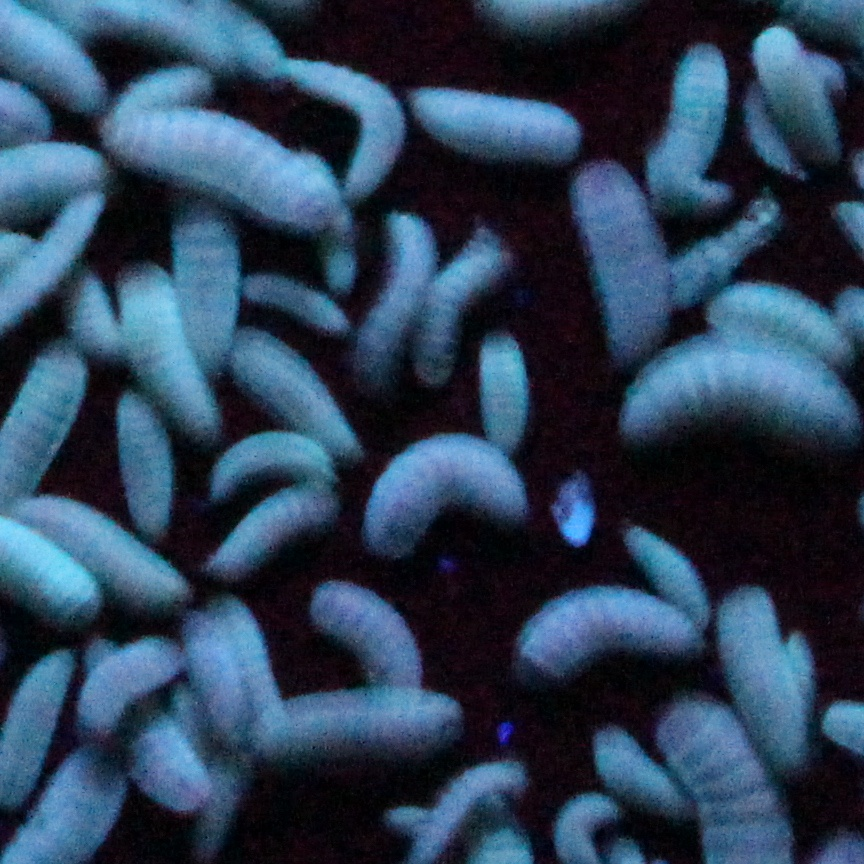larve: (94, 91, 354, 248), (354, 422, 532, 548), (570, 152, 674, 362), (107, 258, 223, 442), (715, 586, 814, 775), (244, 690, 464, 773), (709, 260, 859, 379), (495, 590, 715, 665), (406, 240, 516, 386), (299, 573, 428, 694), (405, 76, 585, 162), (652, 37, 736, 217), (204, 476, 336, 586), (753, 21, 855, 158), (616, 512, 718, 640), (102, 381, 180, 543), (469, 330, 567, 454), (365, 201, 431, 385), (80, 629, 181, 741), (567, 726, 686, 817), (202, 428, 340, 497), (237, 264, 348, 343), (735, 72, 803, 192), (185, 611, 248, 738)
